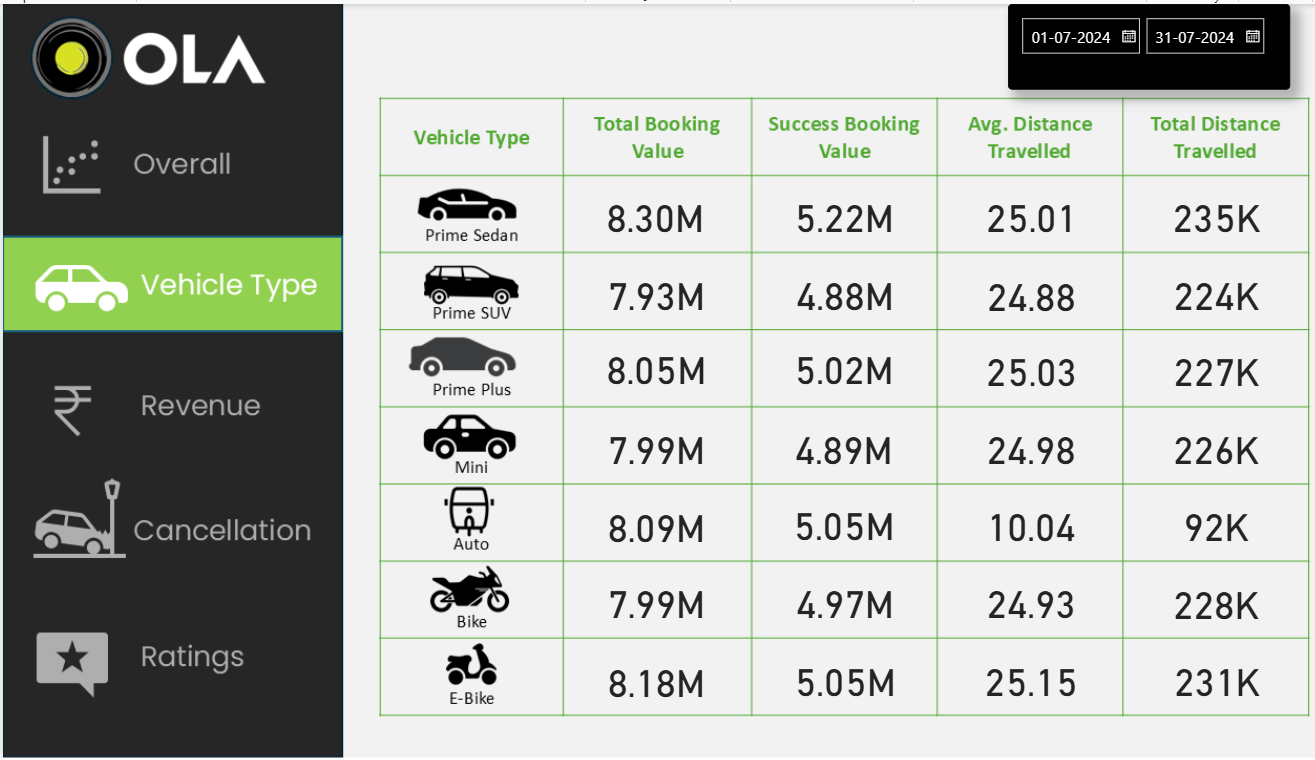

The dashboard page shown, as its layout file describes it:
{"tool":"powerbi","page":{"name":"Vehicle Type","canvas":[1280,720],"ordinal":1},"visuals":[{"type":"actionButton","box":[0,221.4,323.8,91.7],"z":0},{"type":"card","fields":{"Values":["Sum(July.Booking_Value)"]},"box":[537.5,167.5,168.8,66.2],"z":1000},{"type":"card","fields":{"Values":["Sum(July.Booking_Value)"]},"box":[537.6,243.3,168.6,66.2],"z":2000},{"type":"card","fields":{"Values":["Sum(July.Booking_Value)"]},"box":[537.6,313.3,168.6,66.2],"z":3000},{"type":"card","fields":{"Values":["Sum(July.Booking_Value)"]},"box":[537.6,389.5,168.6,66.2],"z":4000},{"type":"card","fields":{"Values":["Sum(July.Booking_Value)"]},"box":[537.6,462.9,168.6,66.2],"z":5000},{"type":"card","fields":{"Values":["Sum(July.Booking_Value)"]},"box":[537.6,536.2,168.6,66.2],"z":6000},{"type":"card","fields":{"Values":["Sum(July.Booking_Value)"]},"box":[537.6,611,168.6,66.2],"z":7000},{"type":"card","fields":{"Values":["Sum(July.Booking_Value)"]},"box":[716.2,167.5,168.8,66.2],"z":8000},{"type":"card","fields":{"Values":["Sum(July.Booking_Value)"]},"box":[717.5,243.3,168.3,65.8],"z":9000},{"type":"card","fields":{"Values":["Sum(July.Booking_Value)"]},"box":[716.7,313.3,168.3,65.8],"z":10000},{"type":"card","fields":{"Values":["Sum(July.Booking_Value)"]},"box":[716.7,389.2,168.3,65.8],"z":11000},{"type":"card","fields":{"Values":["Sum(July.Booking_Value)"]},"box":[716.7,462.5,168.3,65.8],"z":12000},{"type":"card","fields":{"Values":["Sum(July.Booking_Value)"]},"box":[717.5,535.8,168.3,65.8],"z":13000},{"type":"card","fields":{"Values":["Sum(July.Booking_Value)"]},"box":[717.5,610.8,168.3,65.8],"z":14000},{"type":"card","fields":{"Values":["Avg(July.Ride_Distance)"]},"box":[895,167.5,168.8,66.2],"z":15000},{"type":"card","fields":{"Values":["Avg(July.Ride_Distance)"]},"box":[895,243.8,168.8,65],"z":16000},{"type":"card","fields":{"Values":["Avg(July.Ride_Distance)"]},"box":[895,315,168.8,65],"z":17000},{"type":"card","fields":{"Values":["Avg(July.Ride_Distance)"]},"box":[895,389.4,168.3,65.6],"z":18000},{"type":"card","fields":{"Values":["Avg(July.Ride_Distance)"]},"box":[895,462.8,168.3,65.6],"z":19000},{"type":"card","fields":{"Values":["Avg(July.Ride_Distance)"]},"box":[895,536.1,168.3,65.6],"z":20000},{"type":"card","fields":{"Values":["Avg(July.Ride_Distance)"]},"box":[895,611.1,168.3,65.6],"z":21000},{"type":"card","fields":{"Values":["Sum(July.Ride_Distance)"]},"box":[1071.7,167.5,169.2,66.7],"z":22000},{"type":"card","fields":{"Values":["Sum(July.Ride_Distance)"]},"box":[1071.9,243.1,168.8,65],"z":23000},{"type":"card","fields":{"Values":["Sum(July.Ride_Distance)"]},"box":[1071.9,315,168.8,65],"z":24000},{"type":"card","fields":{"Values":["Sum(July.Ride_Distance)"]},"box":[1071.9,389.4,168.1,65.6],"z":25000},{"type":"card","fields":{"Values":["Sum(July.Ride_Distance)"]},"box":[1071.9,463.1,168.1,65.6],"z":26000},{"type":"card","fields":{"Values":["Sum(July.Ride_Distance)"]},"box":[1071.9,536.9,168.1,65.6],"z":27000},{"type":"card","fields":{"Values":["Sum(July.Ride_Distance)"]},"box":[1073,611,168,65],"z":28000},{"type":"slicer","title":"Date","fields":{"Values":["July.Date"]},"box":[957.1,0,268.6,81.4],"z":29000}]}

Visuals, with their boxes on the page's 1280x720 design canvas (x1, y1, x2, y2). These are canvas units, not pixel positions in the 1315x760 screenshot, which may show the page scaled, cropped or inside an application window:
actionButton: BBox(0, 221, 324, 313)
card - Sum(July.Booking_Value): BBox(538, 168, 706, 234)
card - Sum(July.Booking_Value): BBox(538, 243, 706, 310)
card - Sum(July.Booking_Value): BBox(538, 313, 706, 380)
card - Sum(July.Booking_Value): BBox(538, 390, 706, 456)
card - Sum(July.Booking_Value): BBox(538, 463, 706, 529)
card - Sum(July.Booking_Value): BBox(538, 536, 706, 602)
card - Sum(July.Booking_Value): BBox(538, 611, 706, 677)
card - Sum(July.Booking_Value): BBox(716, 168, 885, 234)
card - Sum(July.Booking_Value): BBox(718, 243, 886, 309)
card - Sum(July.Booking_Value): BBox(717, 313, 885, 379)
card - Sum(July.Booking_Value): BBox(717, 389, 885, 455)
card - Sum(July.Booking_Value): BBox(717, 462, 885, 528)
card - Sum(July.Booking_Value): BBox(718, 536, 886, 602)
card - Sum(July.Booking_Value): BBox(718, 611, 886, 677)
card - Avg(July.Ride_Distance): BBox(895, 168, 1064, 234)
card - Avg(July.Ride_Distance): BBox(895, 244, 1064, 309)
card - Avg(July.Ride_Distance): BBox(895, 315, 1064, 380)
card - Avg(July.Ride_Distance): BBox(895, 389, 1063, 455)
card - Avg(July.Ride_Distance): BBox(895, 463, 1063, 528)
card - Avg(July.Ride_Distance): BBox(895, 536, 1063, 602)
card - Avg(July.Ride_Distance): BBox(895, 611, 1063, 677)
card - Sum(July.Ride_Distance): BBox(1072, 168, 1241, 234)
card - Sum(July.Ride_Distance): BBox(1072, 243, 1241, 308)
card - Sum(July.Ride_Distance): BBox(1072, 315, 1241, 380)
card - Sum(July.Ride_Distance): BBox(1072, 389, 1240, 455)
card - Sum(July.Ride_Distance): BBox(1072, 463, 1240, 529)
card - Sum(July.Ride_Distance): BBox(1072, 537, 1240, 602)
card - Sum(July.Ride_Distance): BBox(1073, 611, 1241, 676)
"Date" slicer: BBox(957, 0, 1226, 81)
